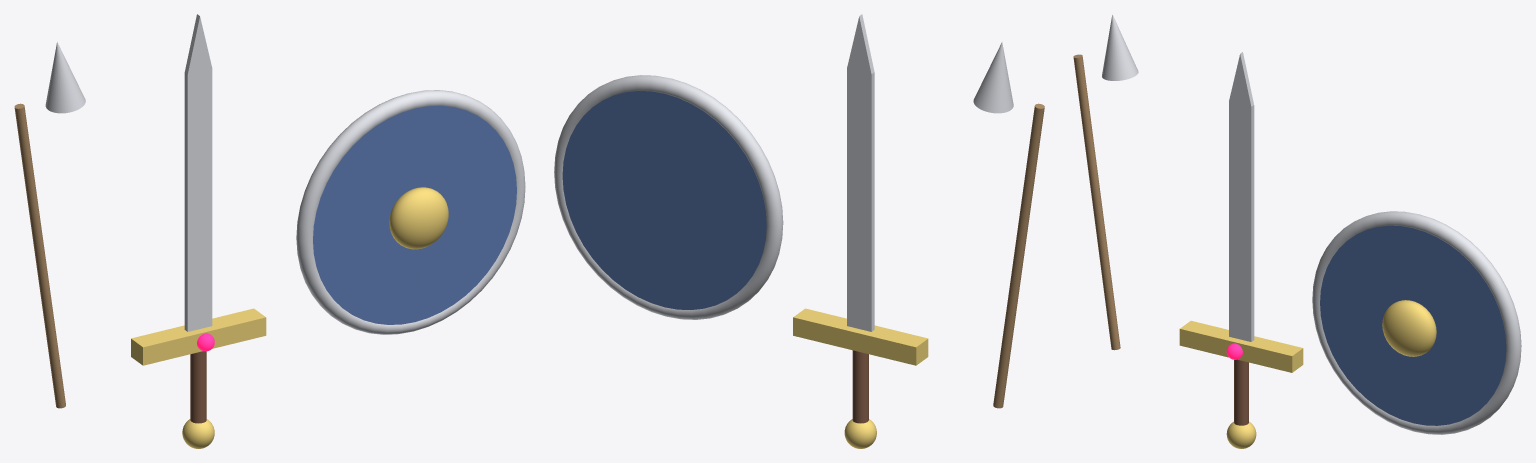
File: fantasy-weapons.glb
The picture shows the model from 3 angles, left to right: view 1: azimuth 30°, elevation 25°; view 2: azimuth 150°, elevation 25°; view 3: azimuth 330°, elevation 25°; orthographic projection. The views are drawn at different scales.
Size of the model in its own units: 2.84 by 2.39 by 0.376.
